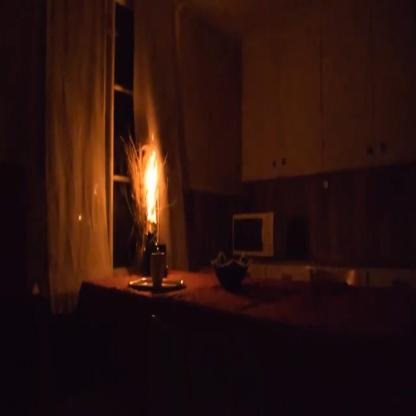fire: (142, 126, 165, 226)
